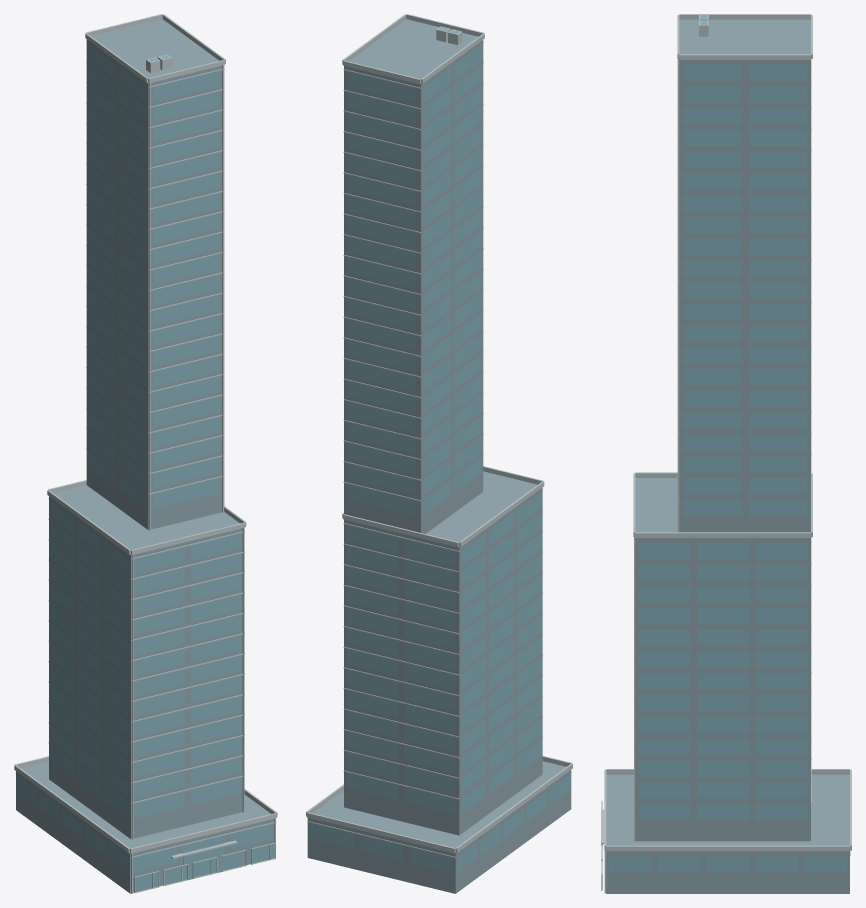
File: commercial_3x4_tower_offset.glb
The picture shows the model from 3 angles, left to right: view 1: azimuth 30°, elevation 25°; view 2: azimuth 150°, elevation 25°; view 3: azimuth 270°, elevation 25°; orthographic projection. The views are drawn at different scales.
Visible parts, largest first — view 1: commercial_3x4_tower_offset_0; view 2: commercial_3x4_tower_offset_0; view 3: commercial_3x4_tower_offset_0.
Part boxes in pixels (x1=…): commercial_3x4_tower_offset_0: x1=14, y1=14, x2=277, y2=893; commercial_3x4_tower_offset_0: x1=306, y1=14, x2=572, y2=893; commercial_3x4_tower_offset_0: x1=601, y1=14, x2=851, y2=893.
Size of the model in its own units: 23 by 116 by 31.4.
